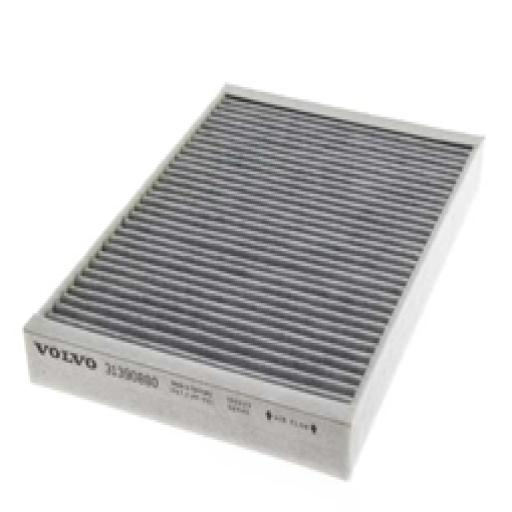cabin_filter: (18, 78, 487, 488)
